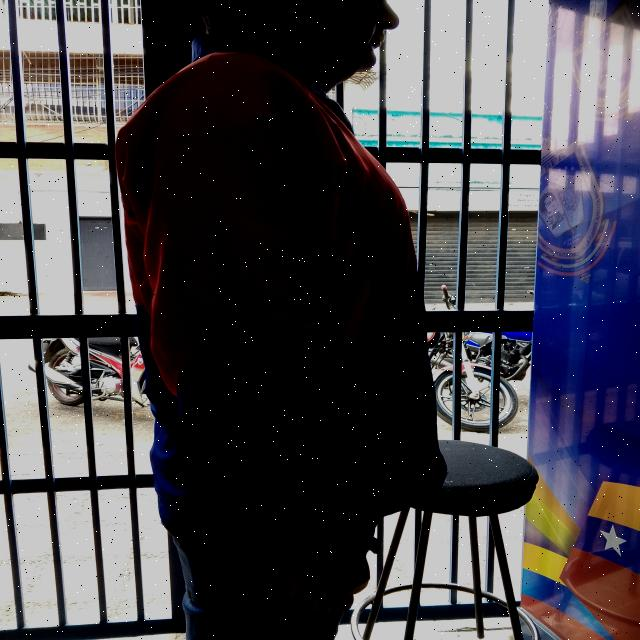chaqueta_unefa: (113, 32, 449, 580)
